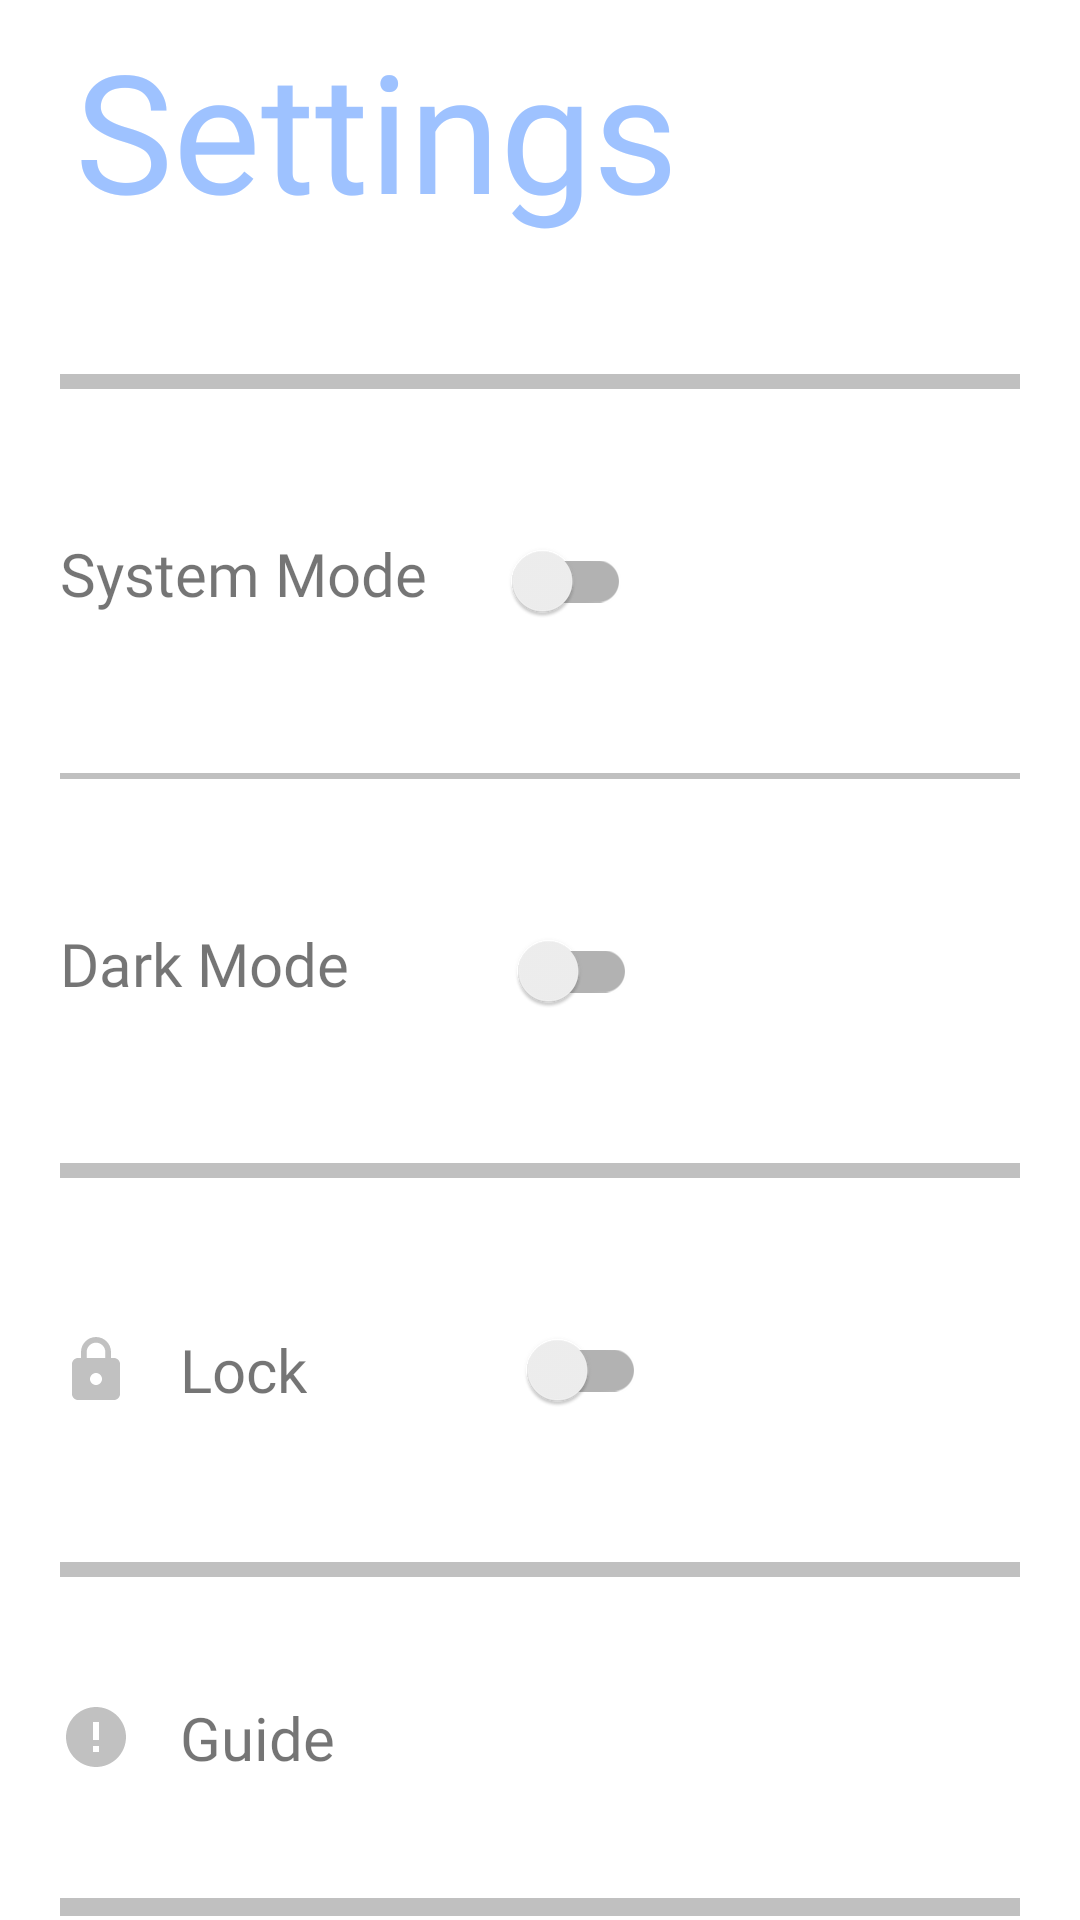

Icon bounding boxes for this 1080 x 1920 phone screenshot, format (x1, y1, x2, y2):
error: (66, 1707, 126, 1767)
